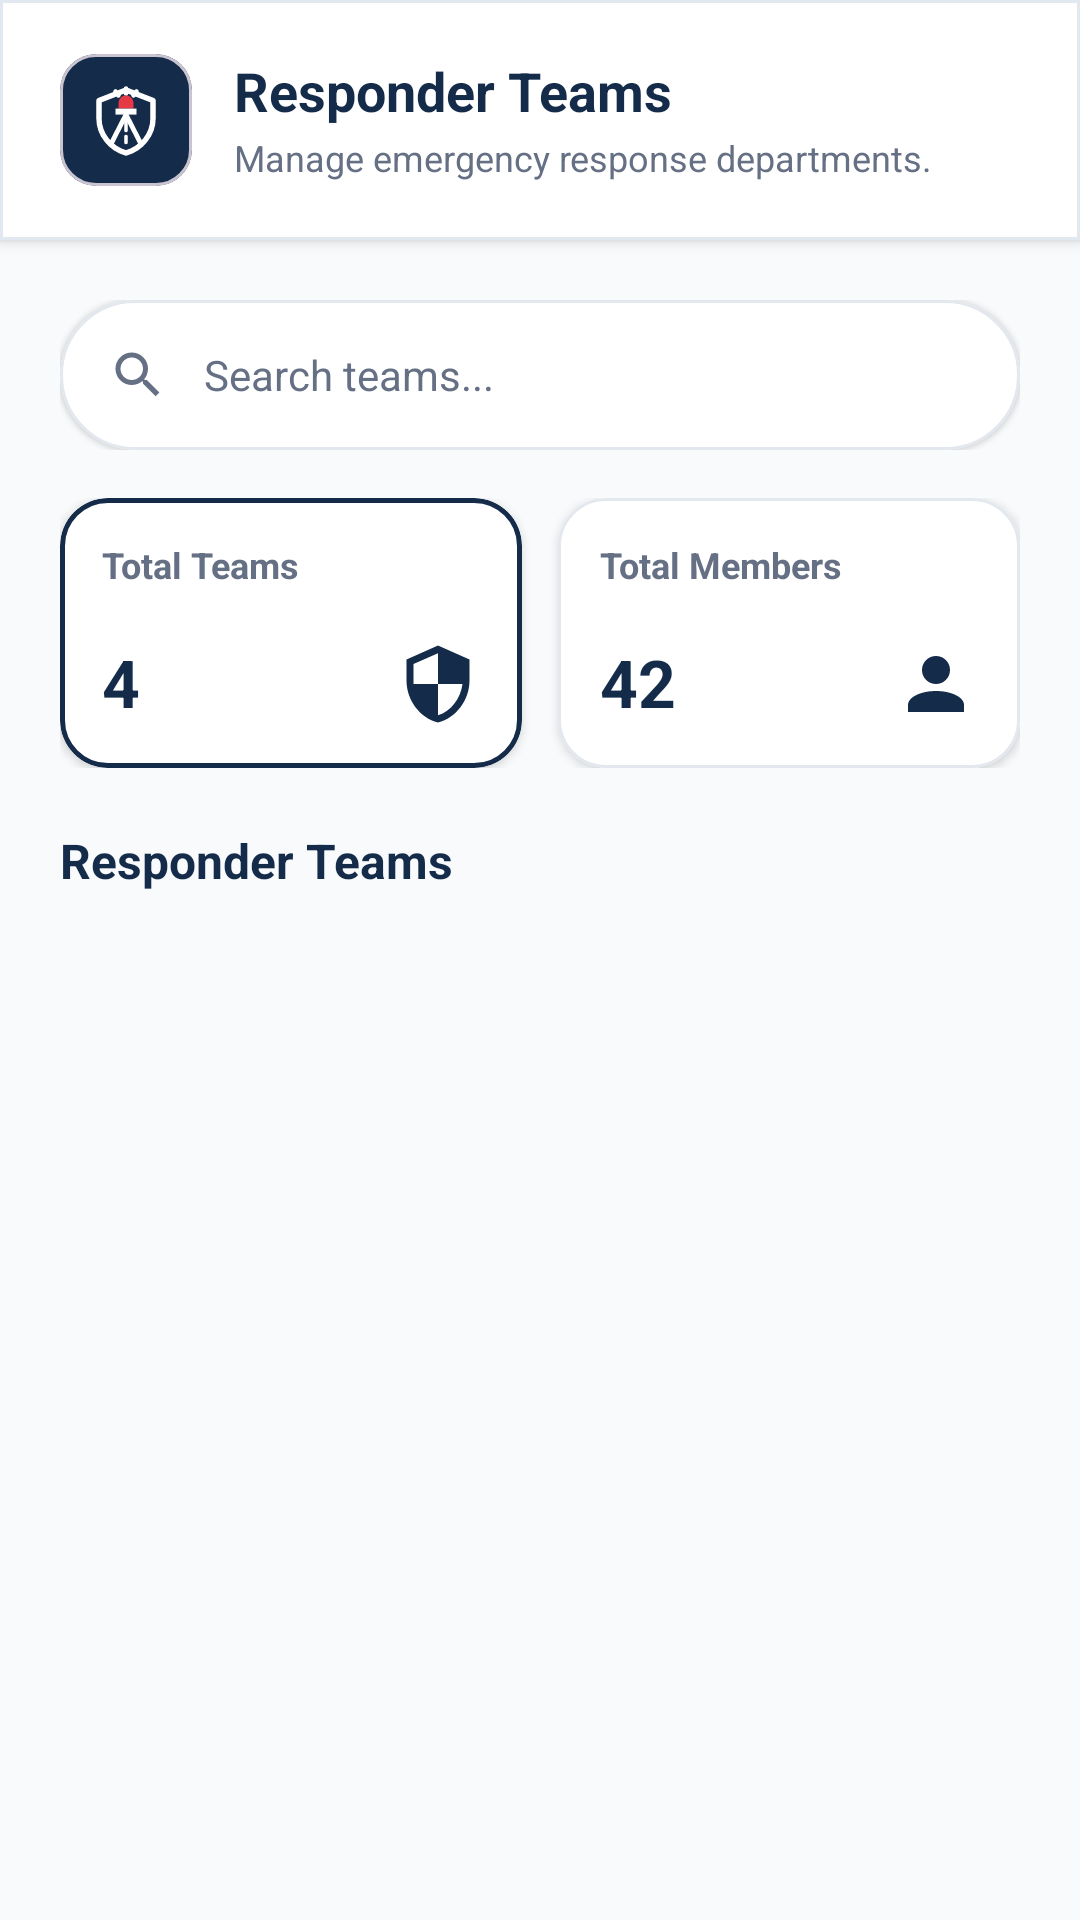

Screen size 1080px×1920px. Icon name, then its box in pixels as (x1, y1, x2, y2):
shield: (406, 645, 470, 723)
user: (908, 656, 964, 712)
